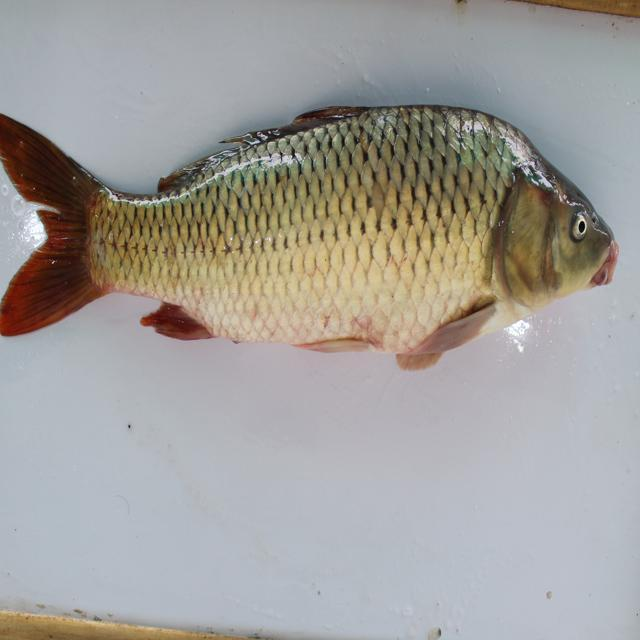CommonCarp: (2, 95, 638, 379)
